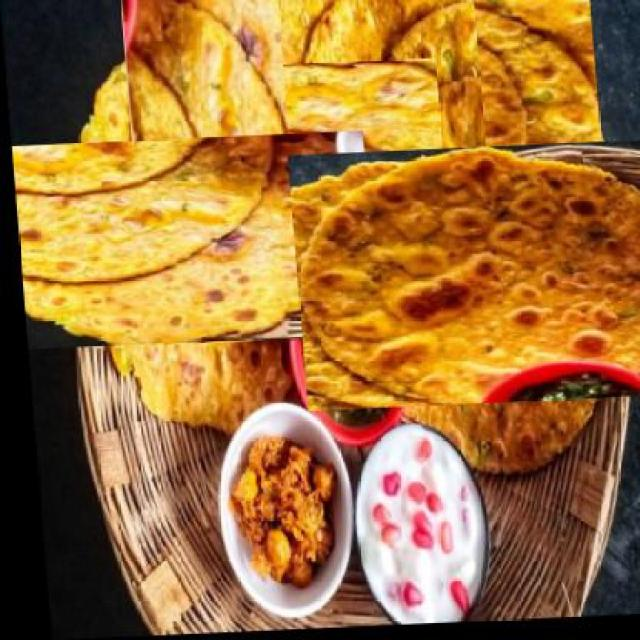chapati: (316, 108, 638, 449), (15, 89, 332, 398), (344, 0, 608, 257), (120, 0, 302, 348), (274, 0, 492, 286), (172, 24, 410, 256)
